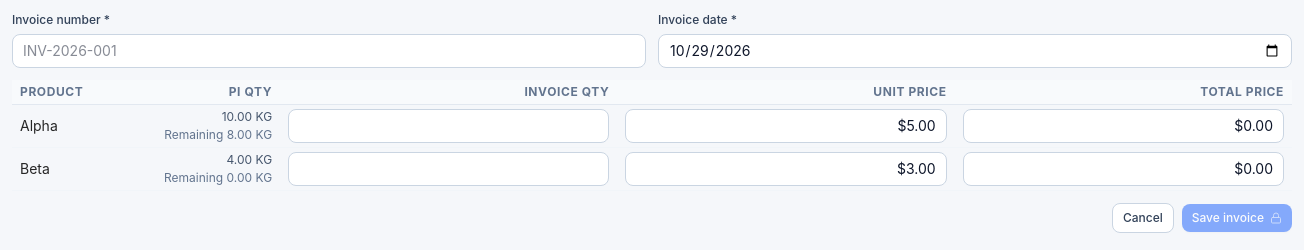
Scenario: InvoiceEditor — create mode › keeps Save disabled until a number and one quantity exist
The width and height of the screenshot is (1304, 250).
expect the text "Alpha" is shown: met, box [12,104,117,148]
expect the button "Save invoice" is disabled: met, box [1182,204,1292,232]
In the field named "Invoice number": (329, 51) [12,34,646,68], type "INV-1"
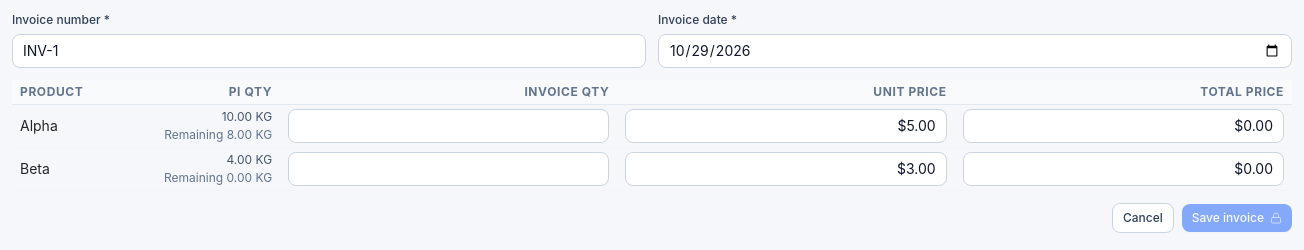
expect the button "Save invoice" is disabled: met, box [1182,204,1292,232]
In the number field named "Invoice qty for Alpha": (449, 126) [288,109,610,143], type "1"
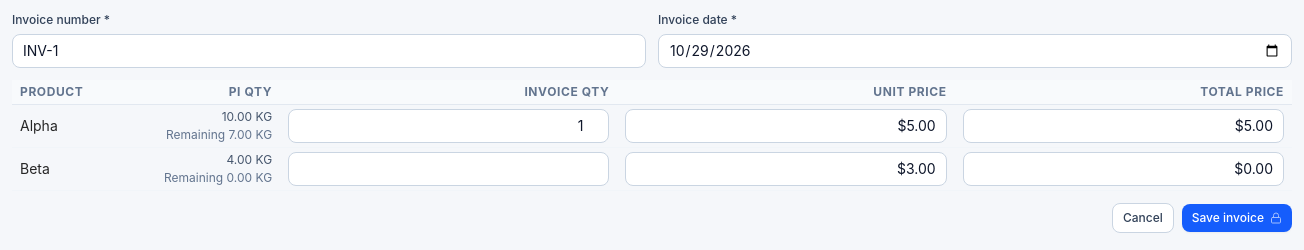
expect the button "Save invoice" is enabled: met, box [1182,204,1292,232]
